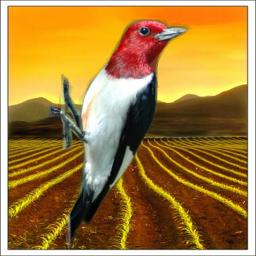Woodpecker: (45, 19, 192, 252)
